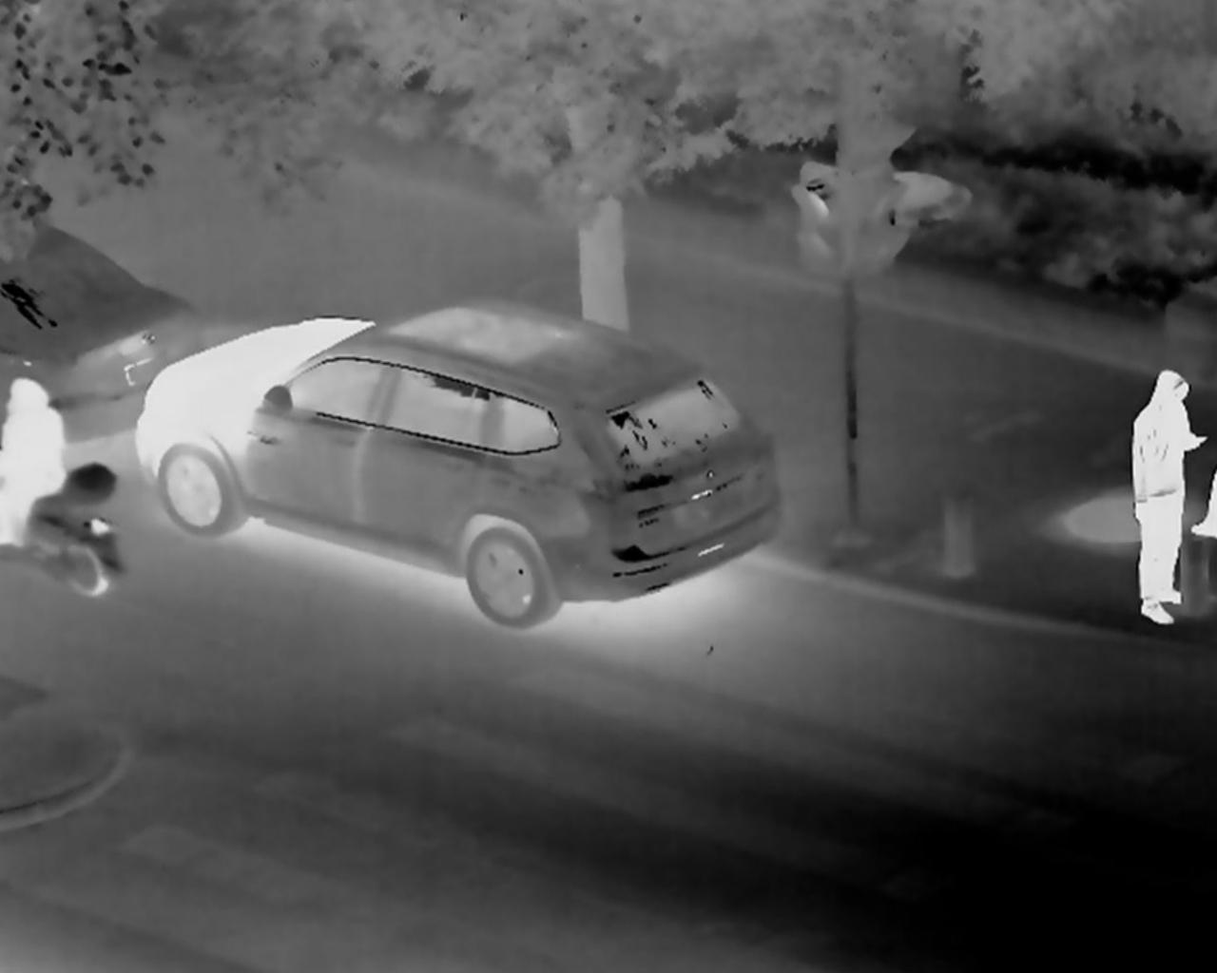person: (1130, 361, 1205, 629), (2, 375, 68, 548)
